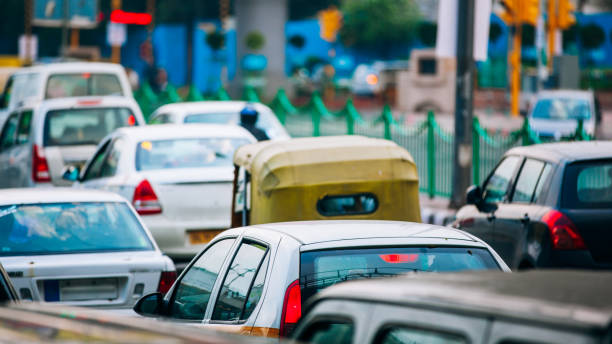car: (171, 216, 434, 344), (454, 126, 609, 266), (1, 188, 164, 318), (119, 123, 238, 256), (1, 96, 128, 188), (521, 87, 598, 138)
rickshaw: (236, 129, 422, 227)
